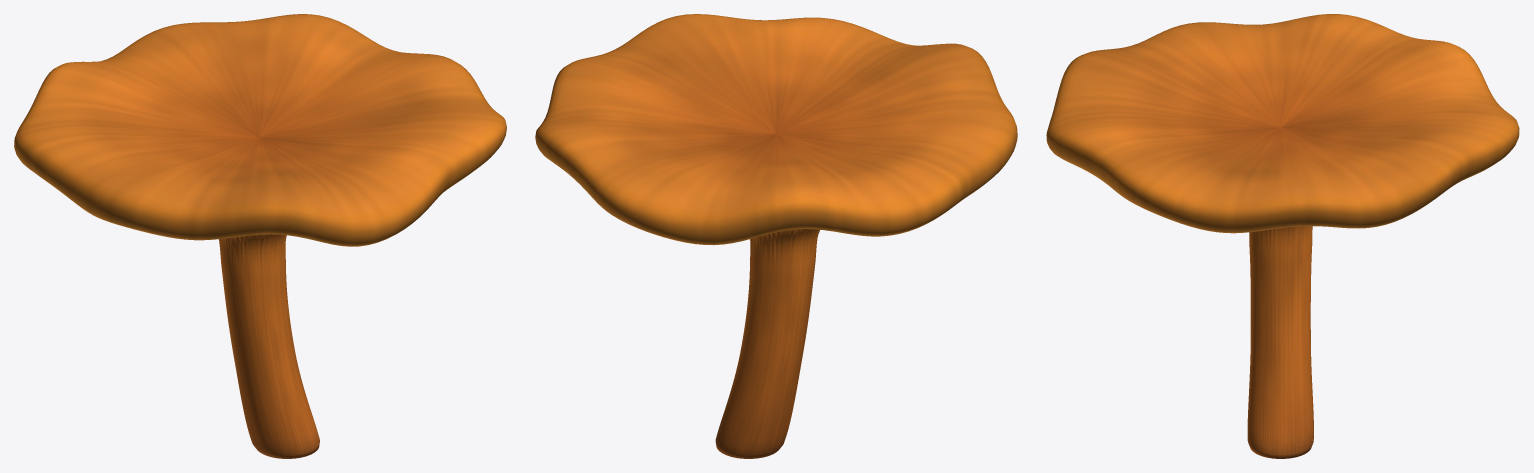
File: hygrophoropsis-aurantiaca-drawn.glb
The picture shows the model from 3 angles, left to right: view 1: azimuth 30°, elevation 25°; view 2: azimuth 150°, elevation 25°; view 3: azimuth 270°, elevation 25°; orthographic projection. The views are drawn at different scales.
Size of the model in its own units: 0.9162 by 0.7418 by 0.9409.
1 material, 1 textured.
